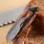cockroach: (6, 6, 40, 42)
